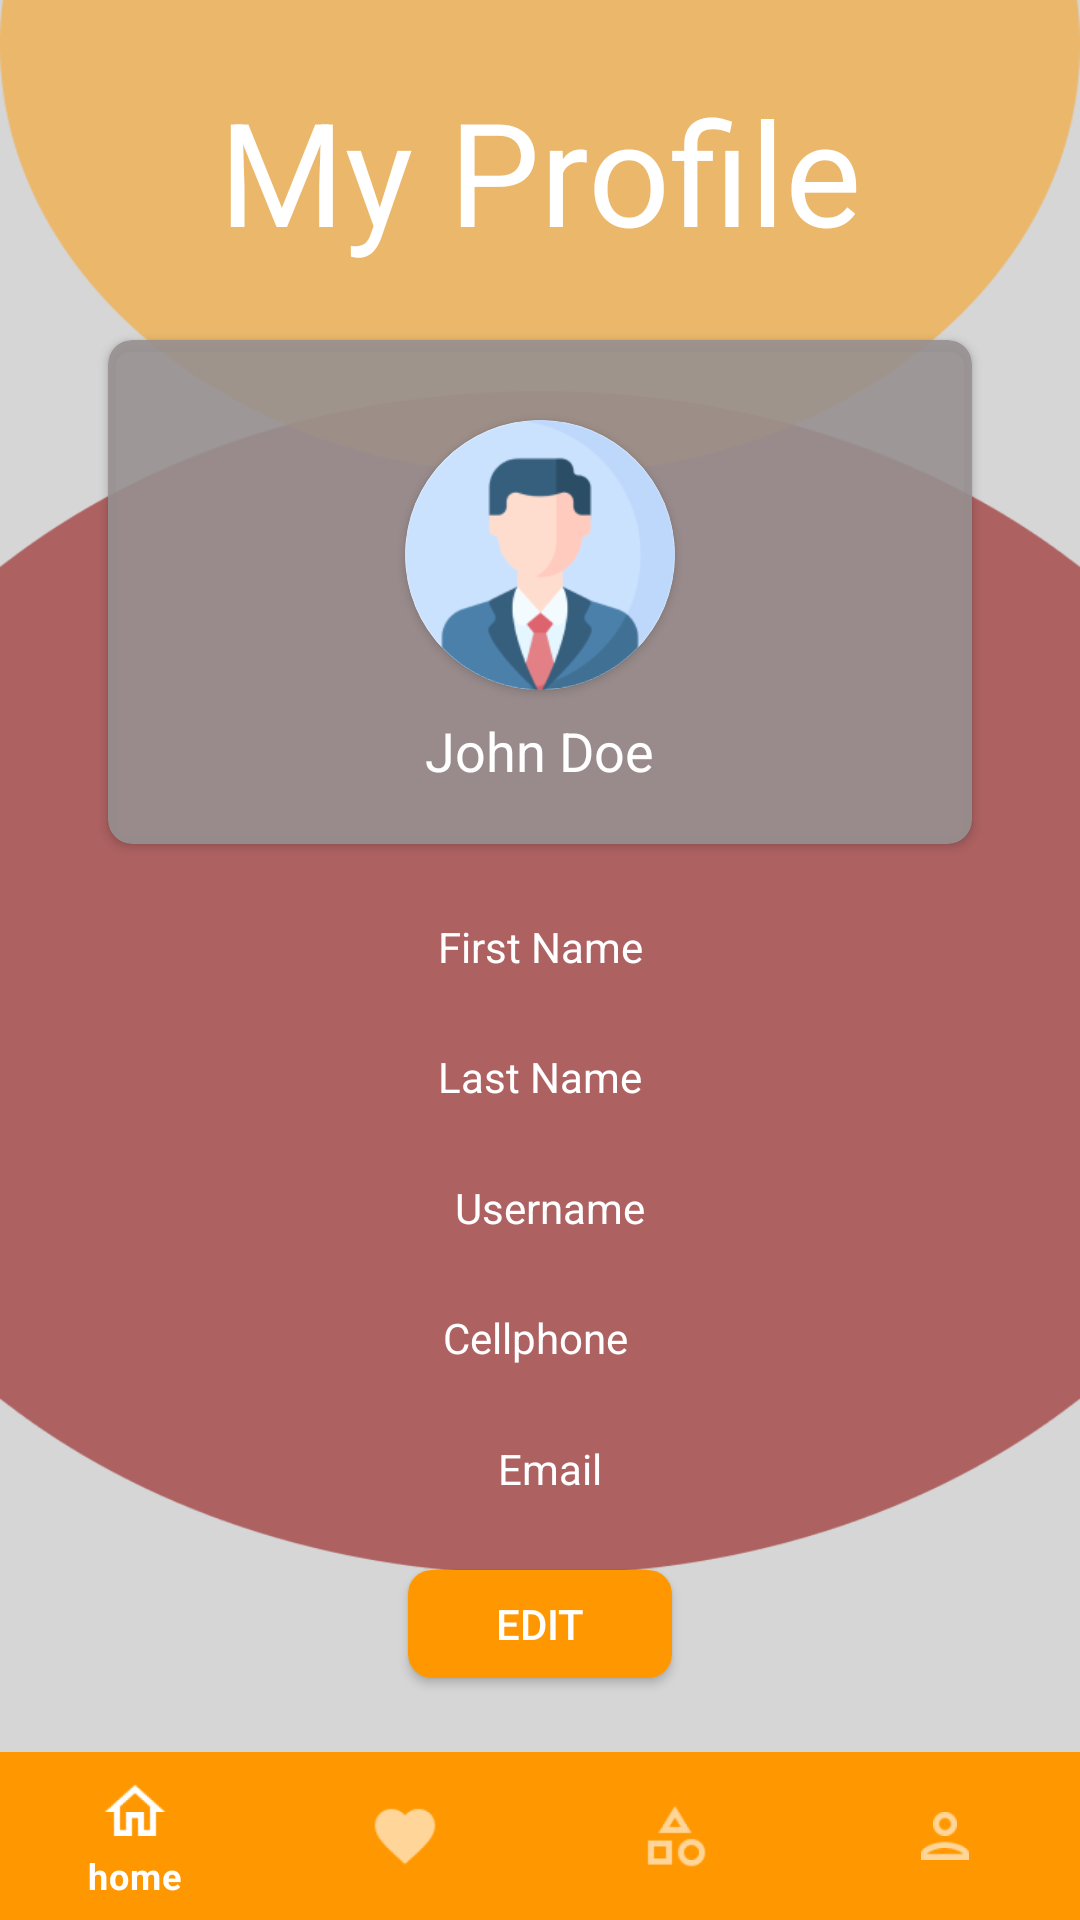

Locate icon controls on the screen. Image size 1080 x 1920, boxes as (x1, y1, x2, y2).
imgprofile: (405, 420, 675, 690)
